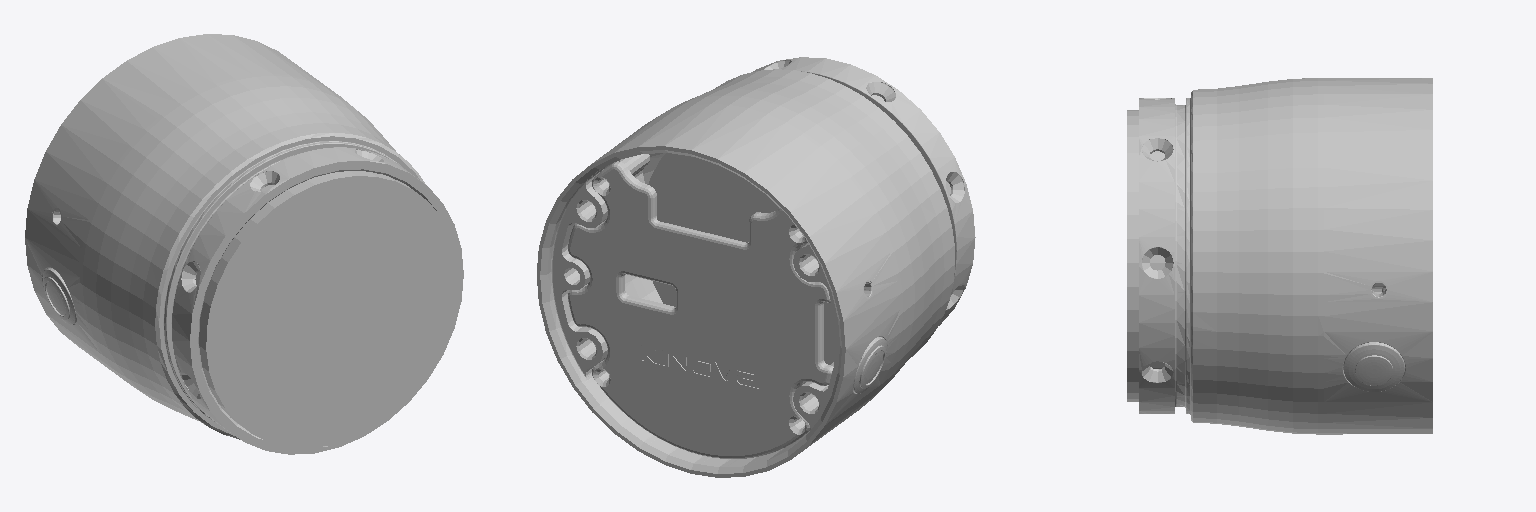
The model's file is bracelet_no_vision_link.obj.
3 views of the same model, side by side, from view 1: azimuth 30°, elevation 25°; view 2: azimuth 150°, elevation 25°; view 3: azimuth 270°, elevation 25° (orthographic).
Visible parts, largest first — view 1: Bracelet_No_Vision_Link; view 2: Bracelet_No_Vision_Link; view 3: Bracelet_No_Vision_Link.
Part boxes in pixels (left/top/right/bottom): Bracelet_No_Vision_Link: left=25, top=34, right=463, bottom=454; Bracelet_No_Vision_Link: left=537, top=57, right=975, bottom=477; Bracelet_No_Vision_Link: left=1127, top=78, right=1432, bottom=434.
Size of the model in its own units: 0.0766 by 0.075 by 0.0644.